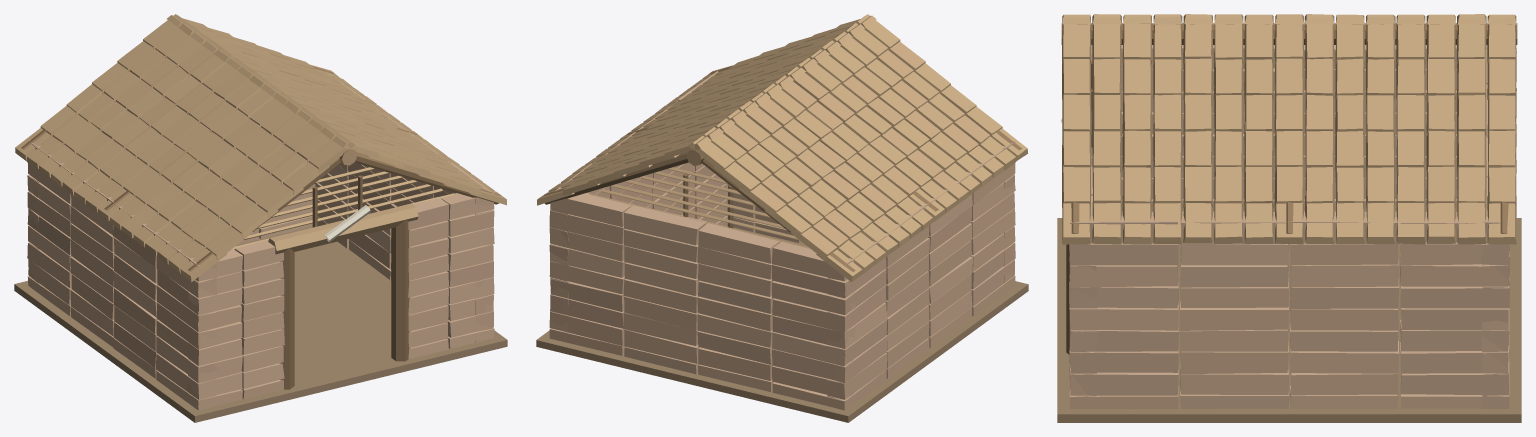
File: building_chief_hall_complete.glb
3 views of the same model, side by side, from view 1: azimuth 30°, elevation 25°; view 2: azimuth 150°, elevation 25°; view 3: azimuth 270°, elevation 25° (orthographic). The views are drawn at different scales.
Parts seen in each view (by area): view 1: building_chief_hall_complete; view 2: building_chief_hall_complete; view 3: building_chief_hall_complete.
Part boxes in pixels (bbox=[...]): building_chief_hall_complete: bbox=[14, 14, 507, 422]; building_chief_hall_complete: bbox=[536, 14, 1028, 422]; building_chief_hall_complete: bbox=[1057, 14, 1521, 422].
Size of the model in its own units: 4.91 by 3.57 by 4.85.
